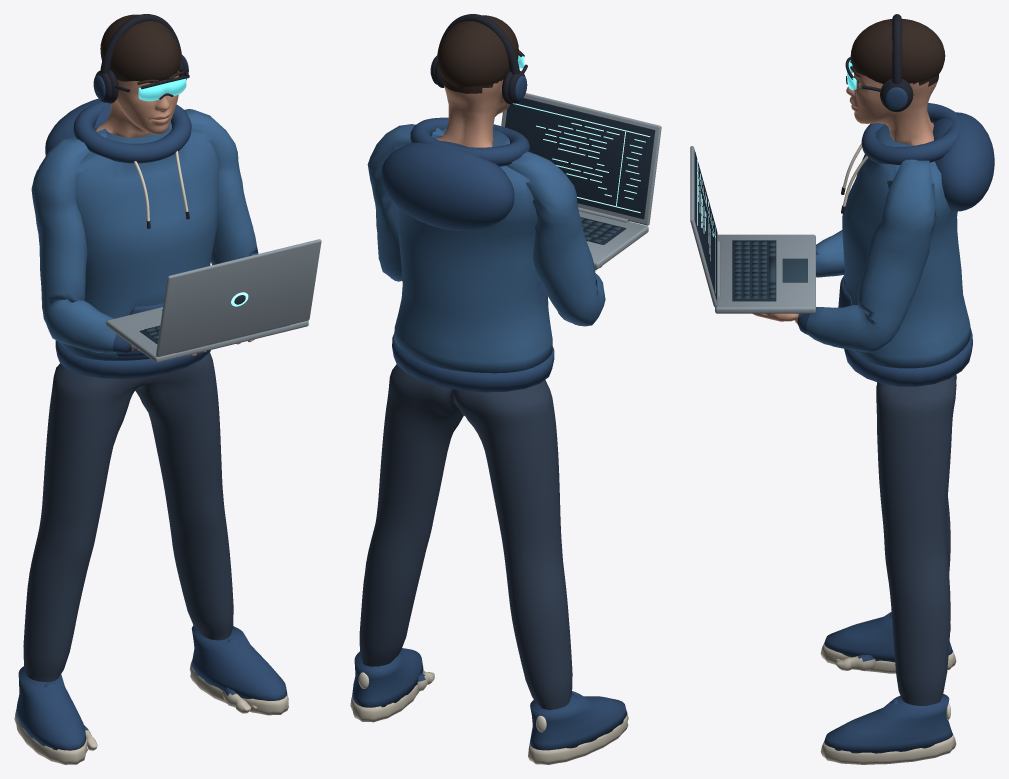
File: char_vibe_coder.glb
The picture shows the model from 3 angles, left to right: view 1: azimuth 30°, elevation 25°; view 2: azimuth 150°, elevation 25°; view 3: azimuth 270°, elevation 25°; orthographic projection. The views are drawn at different scales.
Visible parts, largest first — view 1: char_vibe_coder; view 2: char_vibe_coder; view 3: char_vibe_coder.
Part boxes in pixels (left/top/right/bottom): char_vibe_coder: left=14, top=14, right=321, bottom=764; char_vibe_coder: left=350, top=14, right=661, bottom=764; char_vibe_coder: left=690, top=14, right=994, bottom=764.
Size of the model in its own units: 0.6194 by 1.69 by 0.6765.
14 materials, 14 textured.
